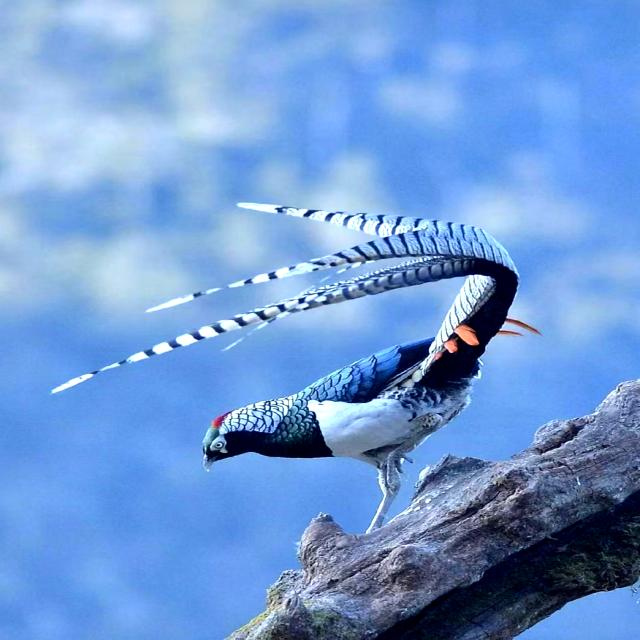Chrysolophus amherstiae: (241, 203, 518, 373)
